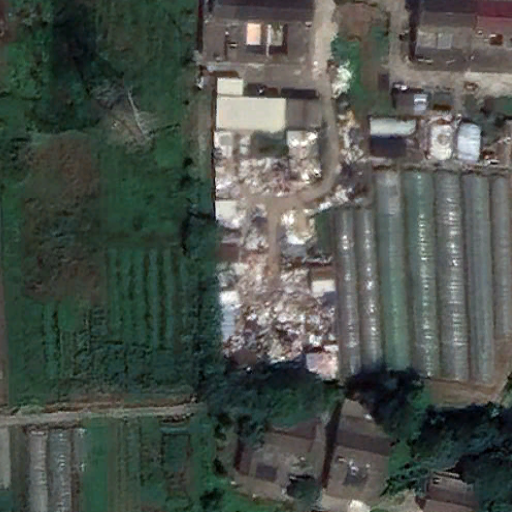msw: (208, 132, 339, 383), (333, 65, 367, 204)
